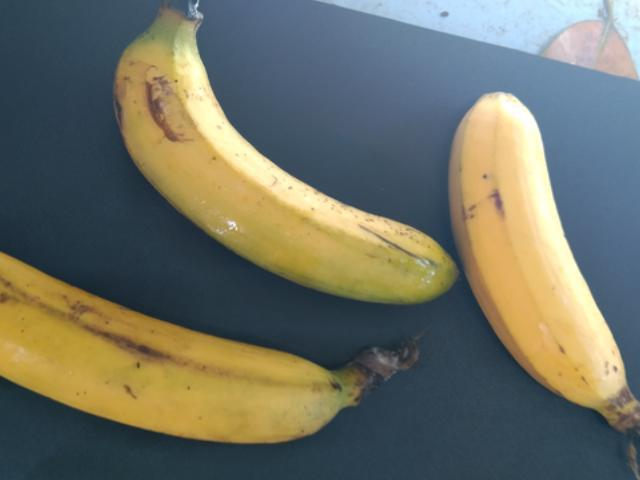freshripe: (434, 81, 639, 440)
ripe: (108, 0, 452, 295), (0, 241, 342, 460)
